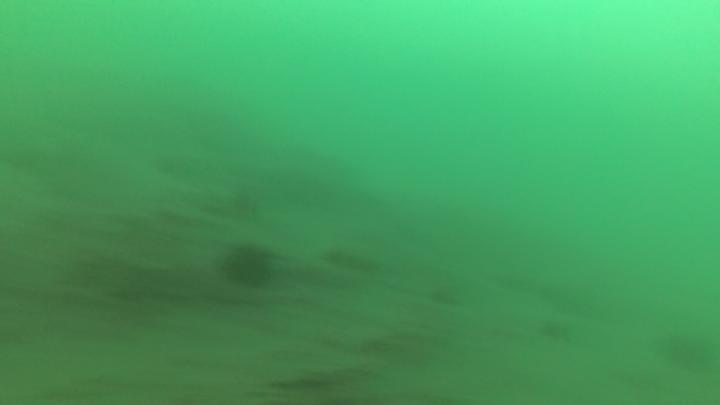echinus: (221, 244, 276, 291), (664, 333, 703, 373), (229, 187, 259, 216)
